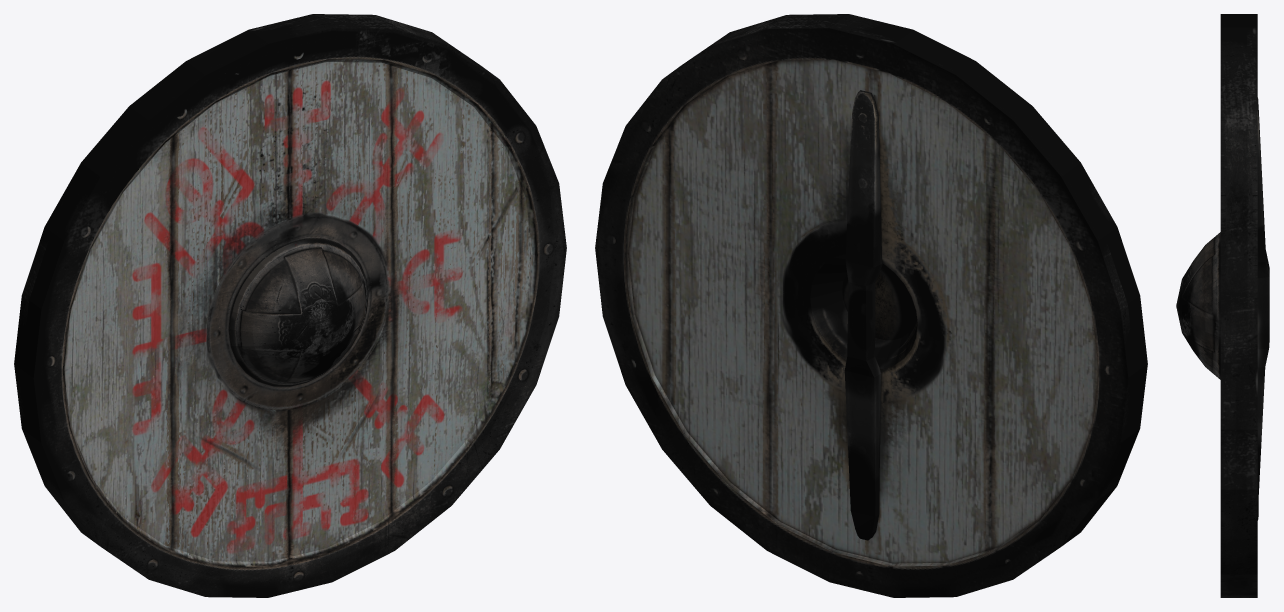
Rendered from shield_sxp_3.obj.
3 views of the same model, side by side, from view 1: azimuth 30°, elevation 25°; view 2: azimuth 150°, elevation 25°; view 3: azimuth 270°, elevation 25° (orthographic). The views are drawn at different scales.
Visible parts, largest first — view 1: Cylinder001; view 2: Cylinder001, handle; view 3: Cylinder001, handle.
Part boxes in pixels (x1,y1,x2,y2): Cylinder001: [14, 14, 566, 597]; Cylinder001: [595, 14, 1147, 597]; handle: [844, 90, 882, 540]; Cylinder001: [1176, 14, 1257, 597]; handle: [1257, 97, 1269, 520].
Bounding box in the file's own units: 180 × 179 × 28.8.
